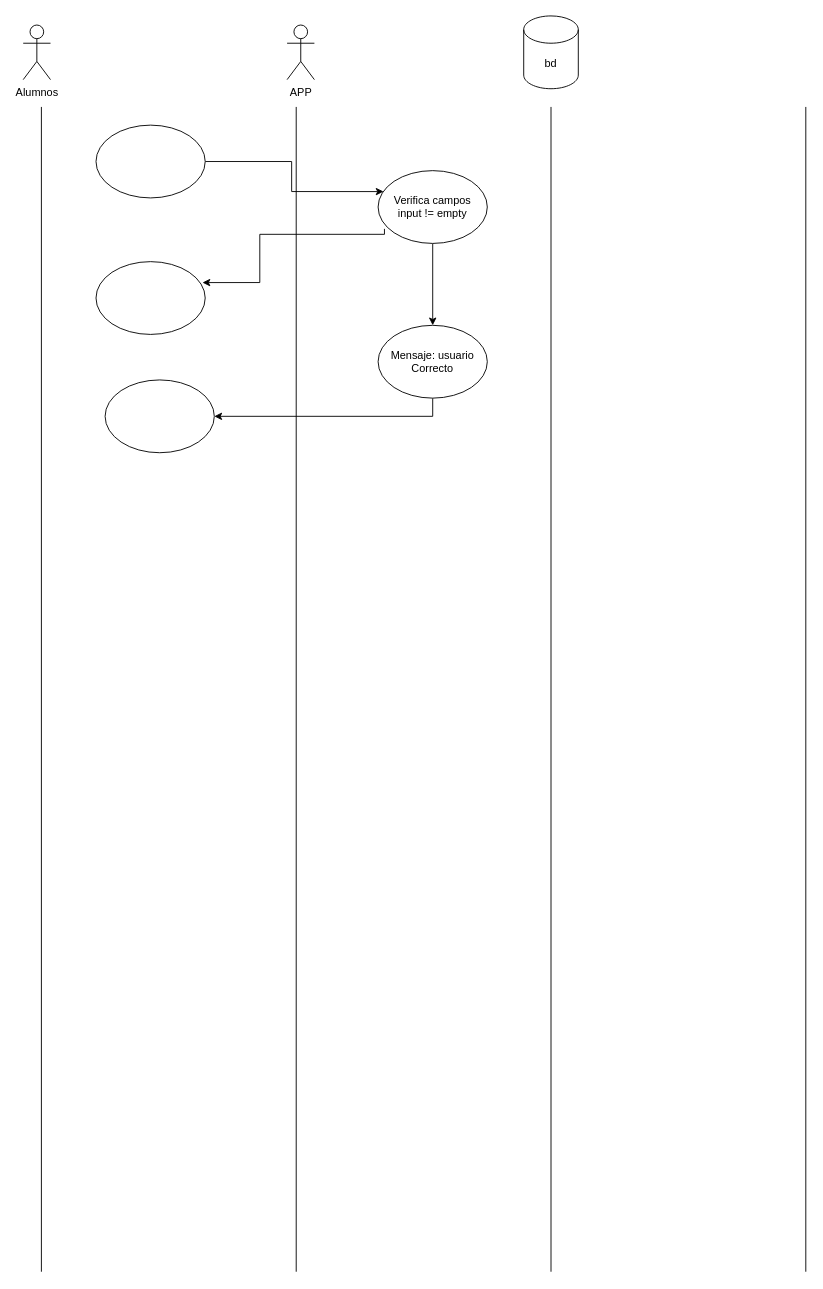
Some shapes in this 823 by 1289 pixel diagram are drawn without their labels. The centre of each missing label's shape, as x and y in pixels:
"INPUT: DNI, Password" belongs at (x=150, y=161).
"Mensaje: Logeado Correctamente" belongs at (x=159, y=416).
"Un campo o varios están vacíos" belongs at (x=150, y=297).
